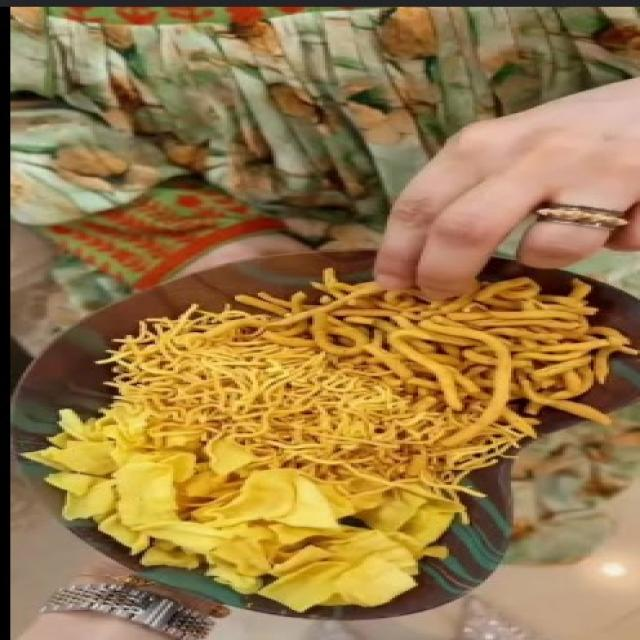Mattai: (13, 266, 640, 609)
